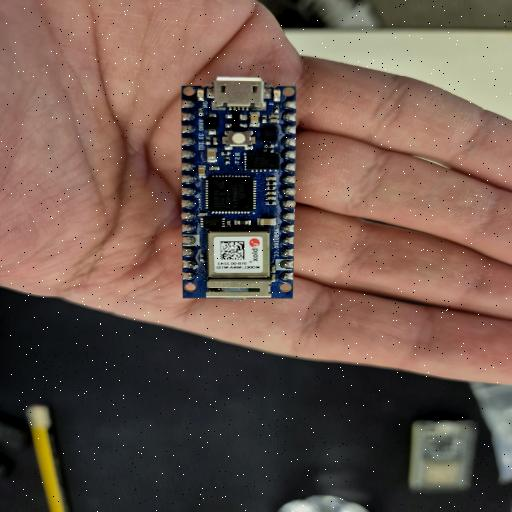arduino-nano-iot-33: (183, 84, 296, 301)
